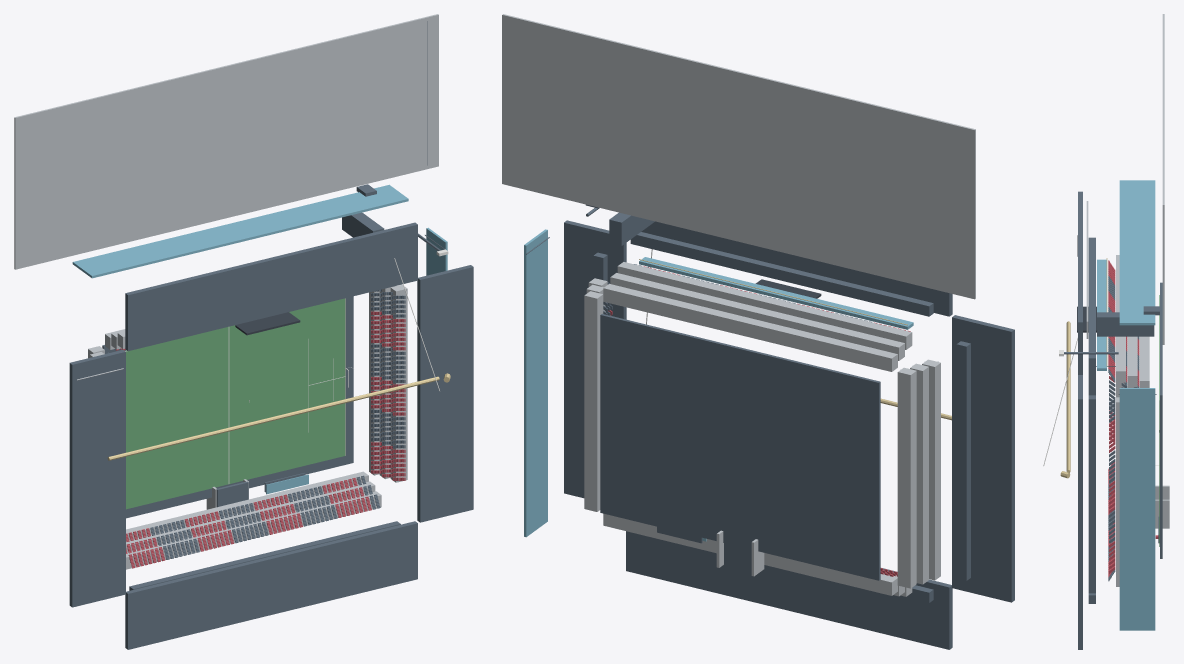
Rendered from wembley_inspired_stadium.glb.
The picture shows the model from 3 angles, left to right: view 1: azimuth 30°, elevation 25°; view 2: azimuth 150°, elevation 25°; view 3: azimuth 270°, elevation 25°; orthographic projection. The views are drawn at different scales.
Visible parts, largest first — view 1: Front plaza, Natural grass pitch, South roof canopy, North roof canopy, West roof canopy, East roof canopy, Glass façade, Pitch base, Long stand fascia -1 2, End stand fascia 1 2, Long stand fascia -1 0, Long stand fascia -1 1 (+7 smaller); view 2: Front plaza, Pitch base, West roof canopy, South roof canopy, East roof canopy, Glass end façade, Long stand fascia 1 0, North roof canopy, Upper long stand beam 1, End stand fascia -1 0, Long stand fascia 1 2, Long stand fascia 1 1 (+7 smaller); view 3: Glass end façade, Glass façade, Upper end stand beam 1, East roof canopy, Upper long stand beam 1, Vertical circulation core, Front plaza, North roof canopy, VIP hospitality glazing, Pitch base, Arch base support, End stand fascia 1 2 (+7 smaller).
Boxes of the visible parts, x1,y1,x2,y2 form: Front plaza: (14,14,438,269); Natural grass pitch: (125,298,345,509); South roof canopy: (125,521,417,649); North roof canopy: (125,222,417,351); West roof canopy: (69,350,125,607); East roof canopy: (417,265,473,522); Glass façade: (72,184,408,278); Pitch base: (102,296,353,518); Long stand fascia -1 2: (126,491,381,569); End stand fascia 1 2: (390,285,407,482); Long stand fascia -1 0: (126,471,368,539); Long stand fascia -1 1: (126,481,375,551); Front plaza: (502,14,975,299); Pitch base: (600,313,880,580); West roof canopy: (952,315,1014,602); South roof canopy: (626,531,952,649); East roof canopy: (564,220,626,498); Glass end façade: (524,229,547,537); Long stand fascia 1 0: (603,284,897,371); North roof canopy: (641,221,952,316); Upper long stand beam 1: (630,232,933,316); End stand fascia -1 0: (897,367,916,588); Long stand fascia 1 2: (617,262,912,349); Long stand fascia 1 1: (610,273,904,360); Glass end façade: (1119,388,1155,630); Glass façade: (1119,180,1155,325); Upper end stand beam 1: (1088,395,1095,593); East roof canopy: (1078,375,1082,623); Upper long stand beam 1: (1088,237,1095,366); Vertical circulation core: (1097,312,1154,336); Front plaza: (1162,14,1164,344); North roof canopy: (1078,191,1082,373); VIP hospitality glazing: (1097,259,1106,370); Pitch base: (1160,282,1162,558); Arch base support: (1066,321,1070,472); End stand fascia 1 2: (1116,397,1119,579).
Size of the model in its own units: 190 by 220 by 53.12.
